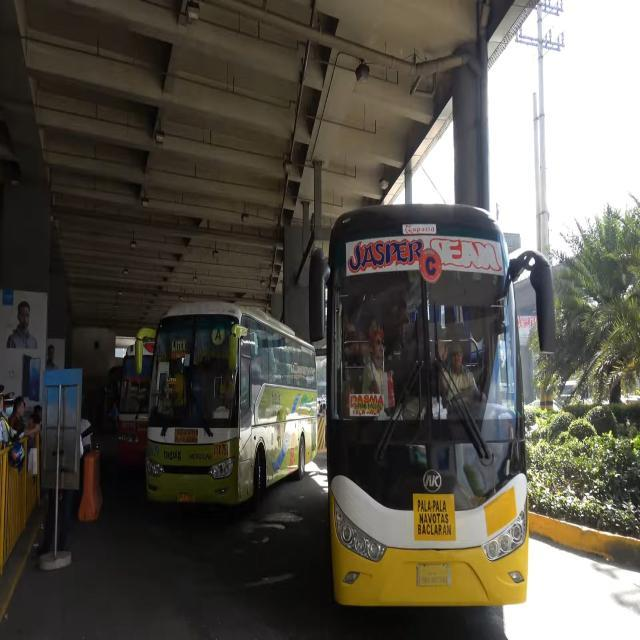bus: (311, 199, 559, 609), (136, 299, 318, 511)
